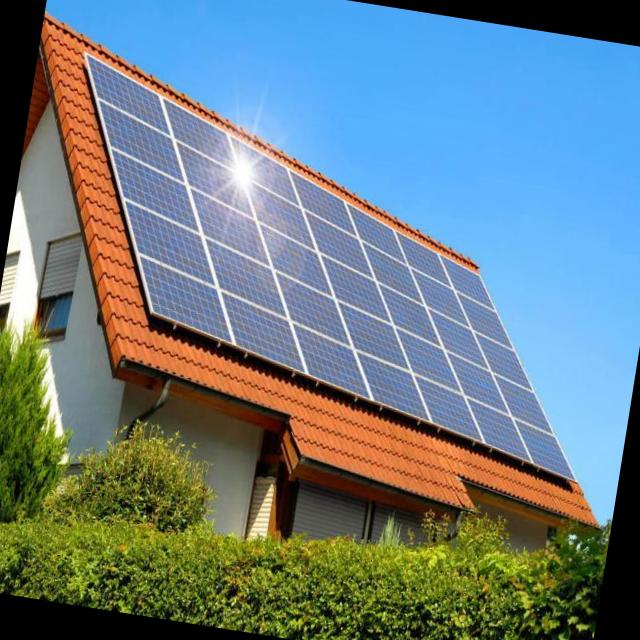no faulty: (90, 59, 576, 484)
